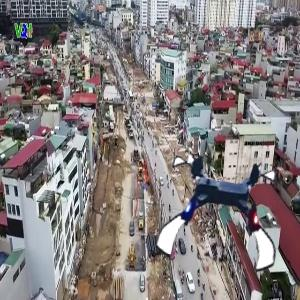drone: (162, 153, 286, 277)
